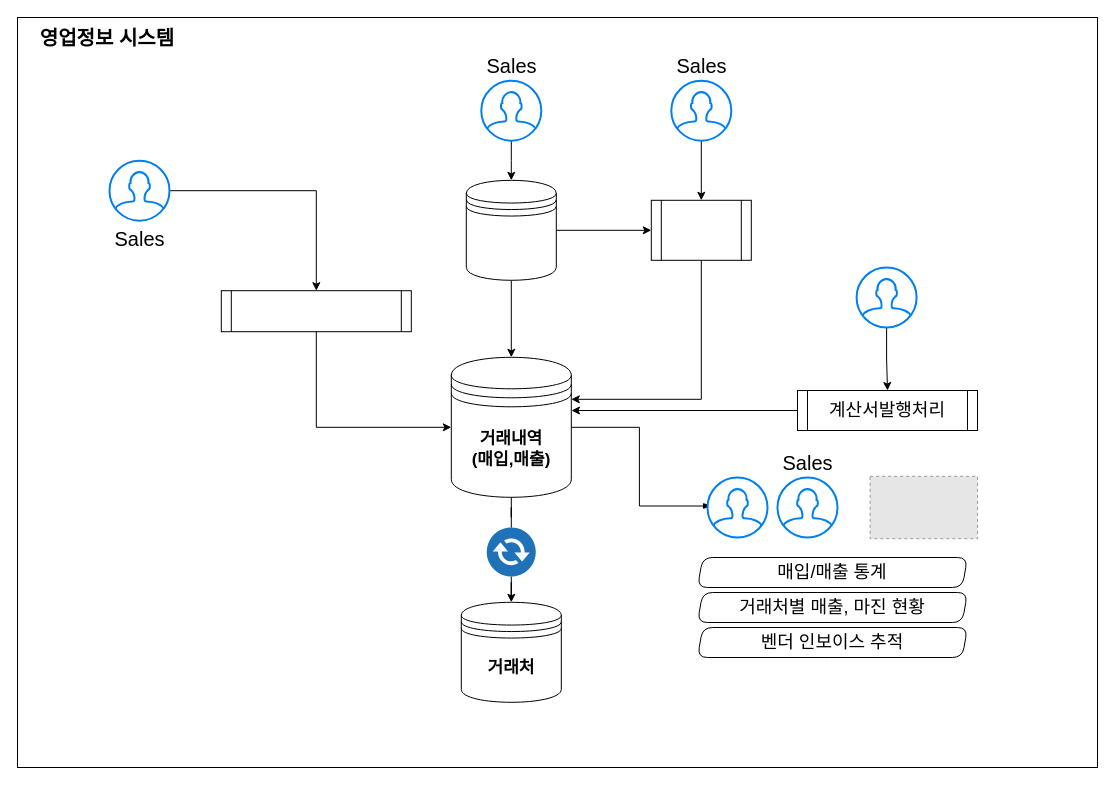
This 1115x785 diagram has some shape labels left out. Grey dashed boxes stand in for pictures. Each missing label, with the centre of its shape:
"Account Manager" goes at (x=886, y=297).
"Chief" goes at (x=737, y=507).
"Upload Excel" goes at (x=315, y=311).
"견적" goes at (x=510, y=229).
"수주" goes at (x=700, y=229).
